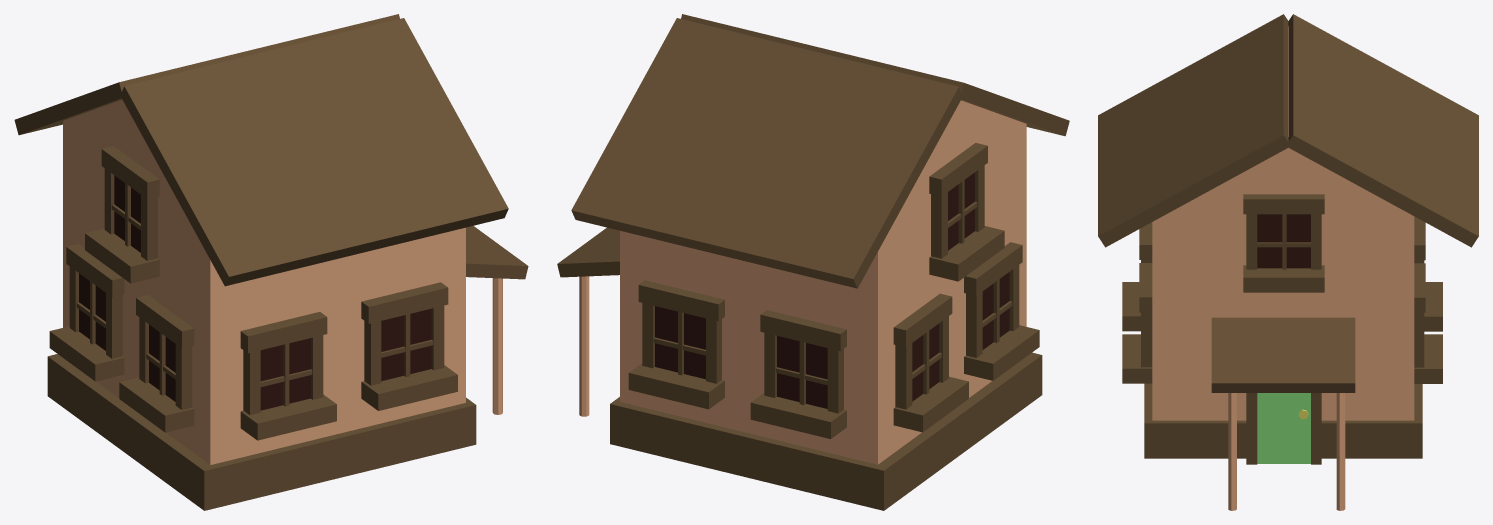
The model's file is west_house.fbx.
3 renders of one model, left to right at view 1: azimuth 30°, elevation 25°; view 2: azimuth 150°, elevation 25°; view 3: azimuth 270°, elevation 25°, orthographic. The views are drawn at different scales.
Visible parts, largest first — view 1: Cube.015, Cylinder.001, Cube.011; view 2: Cube.015, Cylinder.001, Cube.011; view 3: Cube.015, Cylinder.001, Cube.004, Cube.011.
Part boxes in pixels (bbox=[...]): Cube.015: bbox=[14, 14, 528, 510]; Cylinder.001: bbox=[63, 99, 502, 464]; Cube.011: bbox=[79, 175, 431, 410]; Cube.015: bbox=[557, 14, 1069, 510]; Cylinder.001: bbox=[579, 100, 1026, 464]; Cube.011: bbox=[655, 172, 1009, 408]; Cube.015: bbox=[1098, 14, 1478, 464]; Cylinder.001: bbox=[1152, 26, 1414, 510]; Cube.004: bbox=[1257, 393, 1310, 463]; Cube.011: bbox=[1257, 214, 1310, 268].
Size of the model in its own units: 297 by 291 by 291.
